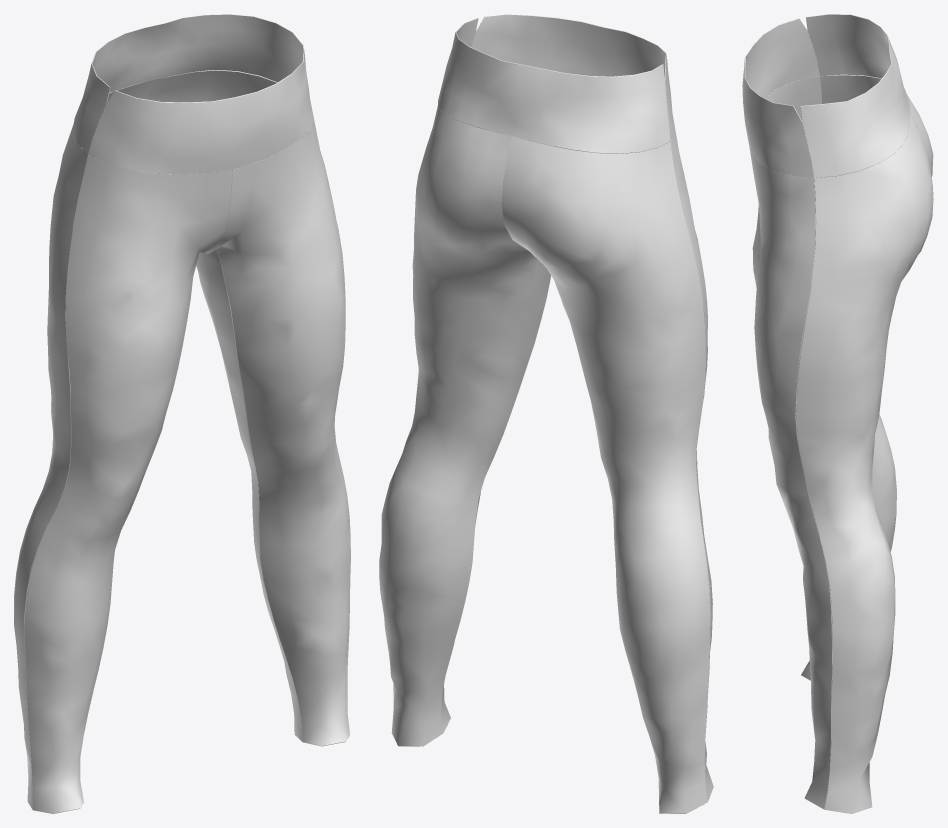
The model's file is whitelegginglowpoly.fbx.
3 views of the same model, side by side, from view 1: azimuth 30°, elevation 25°; view 2: azimuth 150°, elevation 25°; view 3: azimuth 270°, elevation 25° (orthographic). The views are drawn at different scales.
Visible parts, largest first — view 1: 后片_1; view 2: 后片_1; view 3: 后片_1.
Part boxes in pixels (bbox=[...]): 后片_1: bbox=[14, 14, 350, 813]; 后片_1: bbox=[379, 14, 713, 813]; 后片_1: bbox=[742, 14, 933, 813].
Size of the model in its own units: 44.71 by 96.67 by 24.13.
19 materials, 19 textured.
